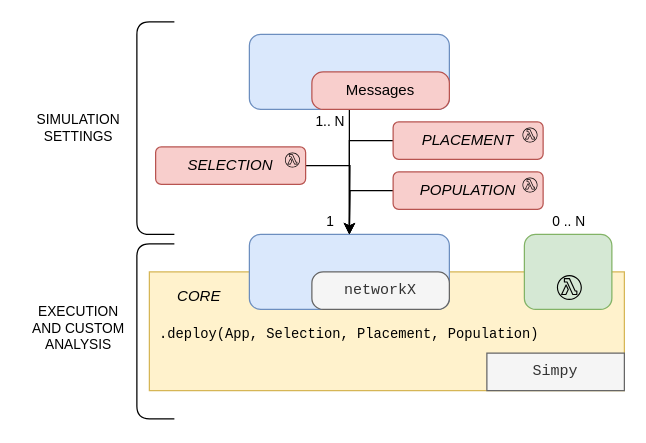
The diagram is 646 pixels wide and 443 high, and some of its shapes have lost their labels. The shapes that lost their labels are listed below. From the top down, each one's box as (x1, y1, x2, y2) in pixels, then its label:
(248, 33, 449, 109): APPLICATION
(248, 233, 449, 309): TOPOLOGY
(523, 233, 612, 309): CUSTOM CONTROL
